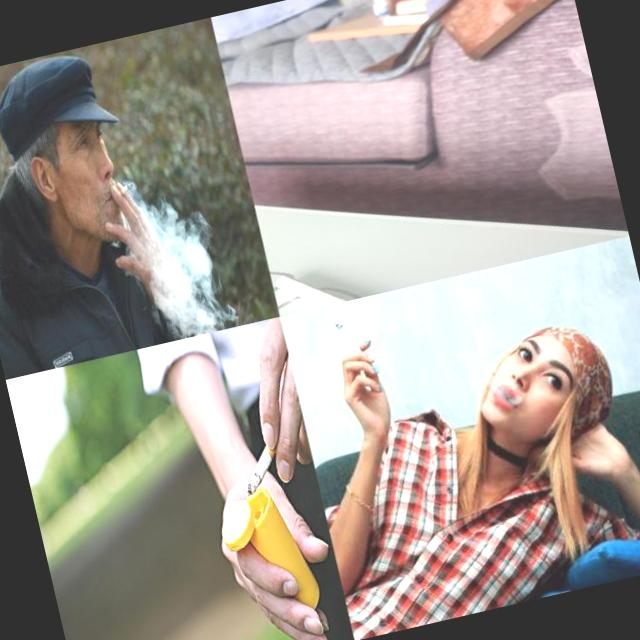cigarette: (94, 178, 175, 296), (330, 311, 405, 434), (232, 433, 288, 499)
